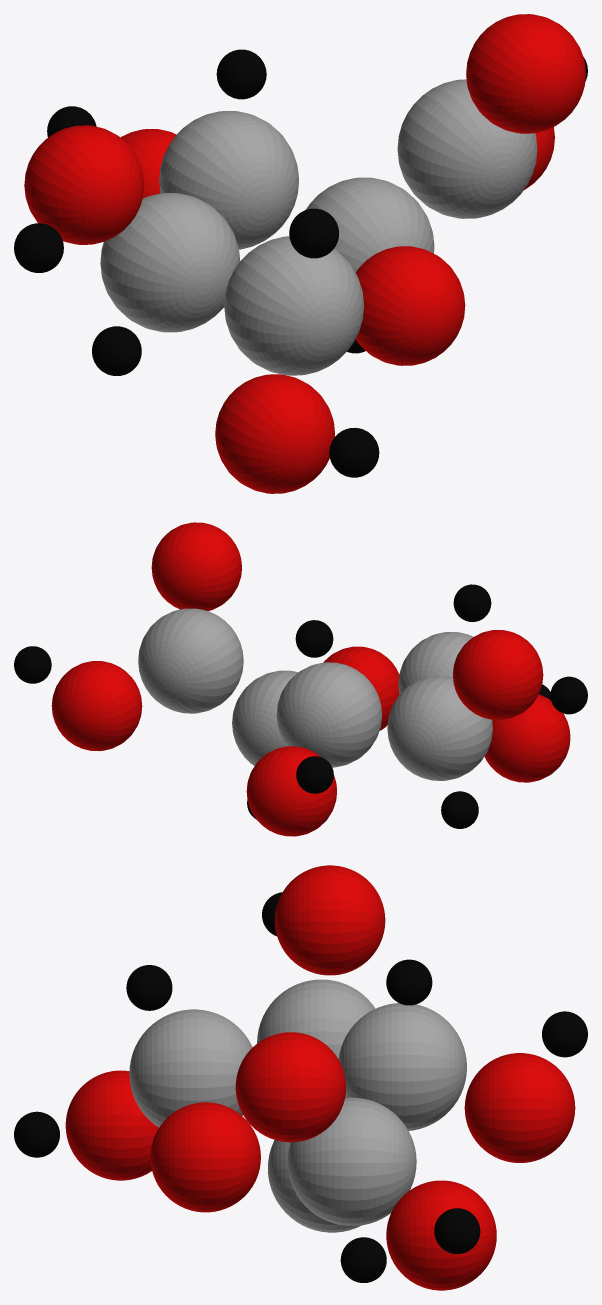
Rendered from Ascorbic Acid.glb.
The picture shows the model from 3 angles, top to bottom: view 1: azimuth 30°, elevation 25°; view 2: azimuth 150°, elevation 25°; view 3: azimuth 270°, elevation 25°; orthographic projection. The views are drawn at different scales.
Visible parts, largest first — view 1: world; view 2: world; view 3: world.
Boxes of the visible parts, bbox=[...] form: world: bbox=[14, 14, 587, 493]; world: bbox=[14, 522, 587, 836]; world: bbox=[14, 865, 587, 1290].
Bounding box in the file's own units: 7.63 × 3.62 × 6.23.
